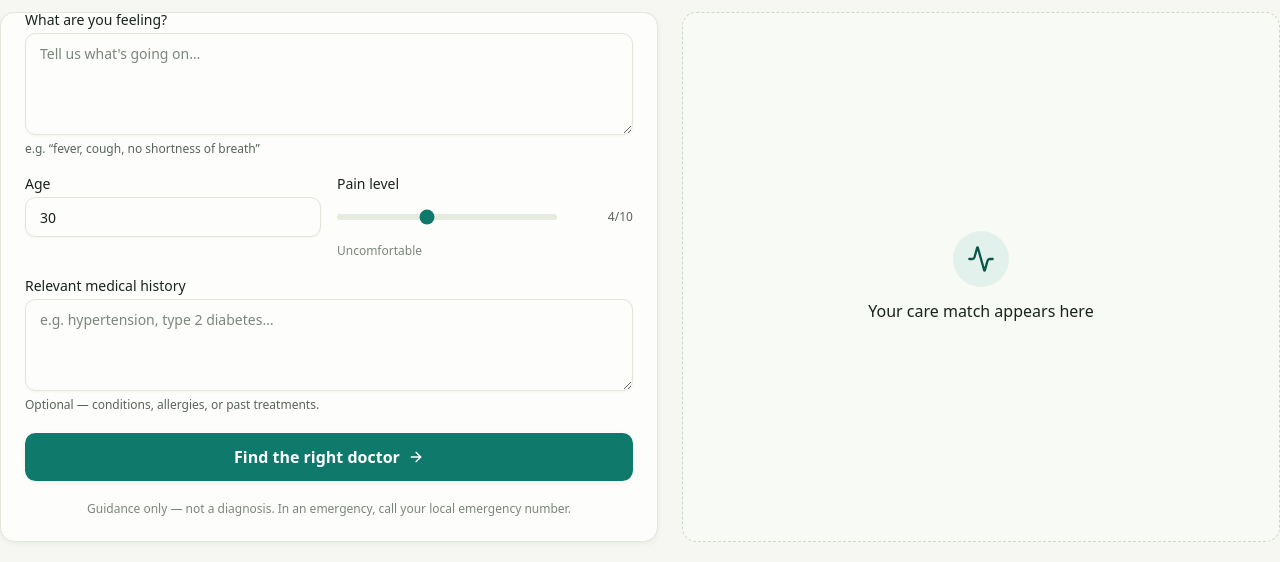
Scenario: SymptomChecker smart check › shows the likely area, illnesses, ranked doctors and the disclaimer
The width and height of the screenshot is (1280, 562).
Click the text box labelled "What are you feeling?" at point(329, 84), box [25,33,633,135]
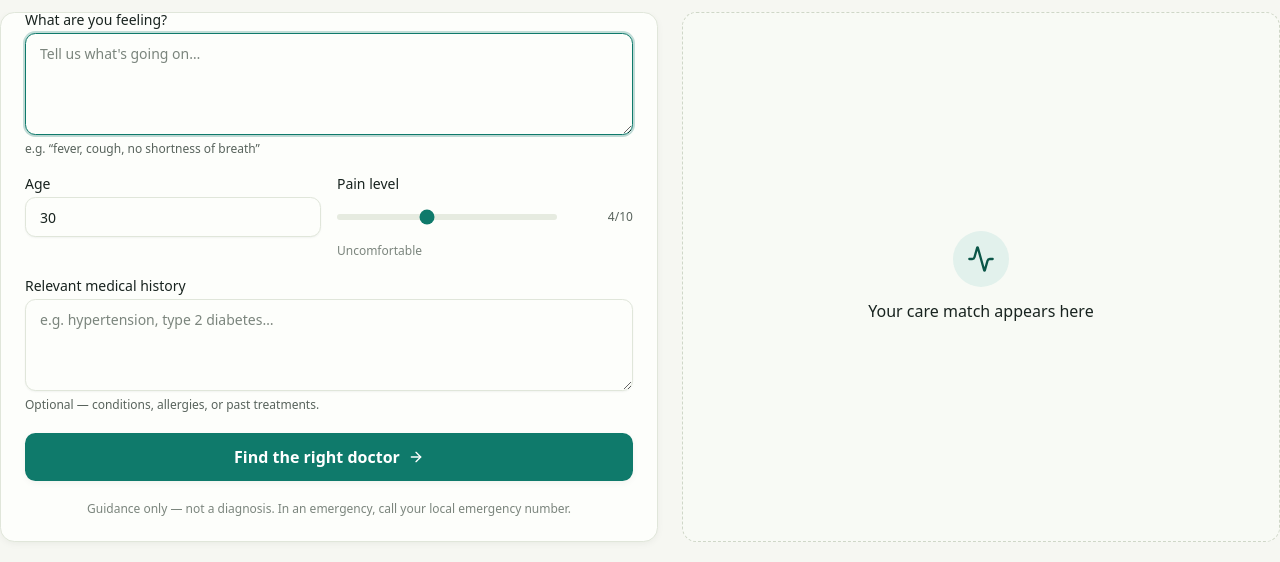
Type keys "heartburn, worse after eating and worse lying down"
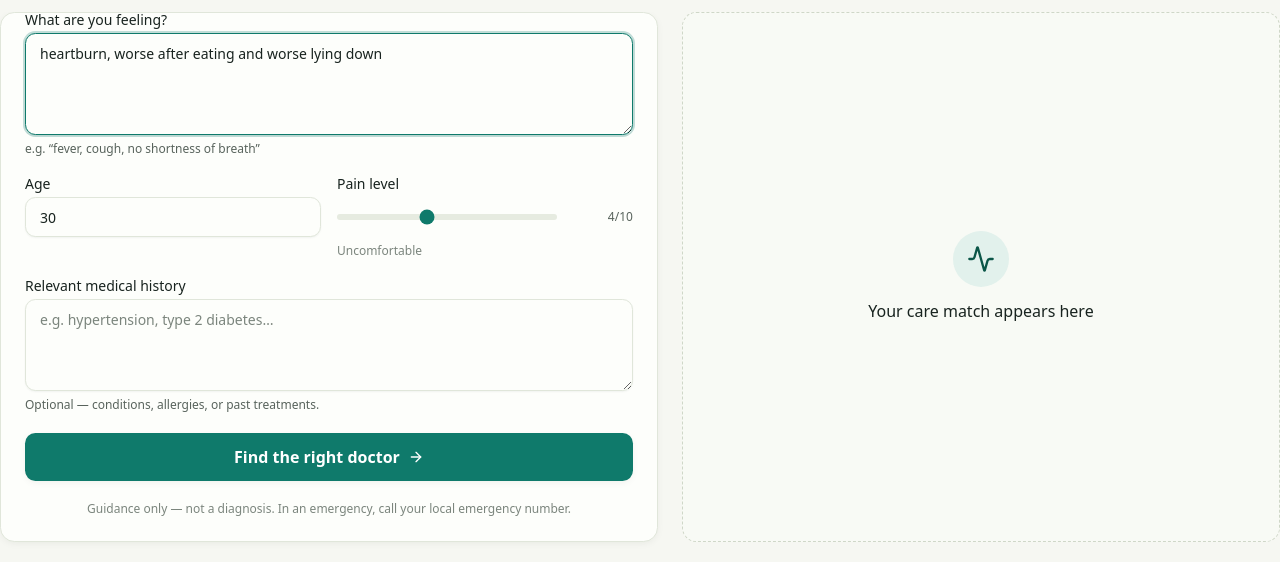
Click the button "Find the right doctor" at point(329, 457), box [25,433,633,481]
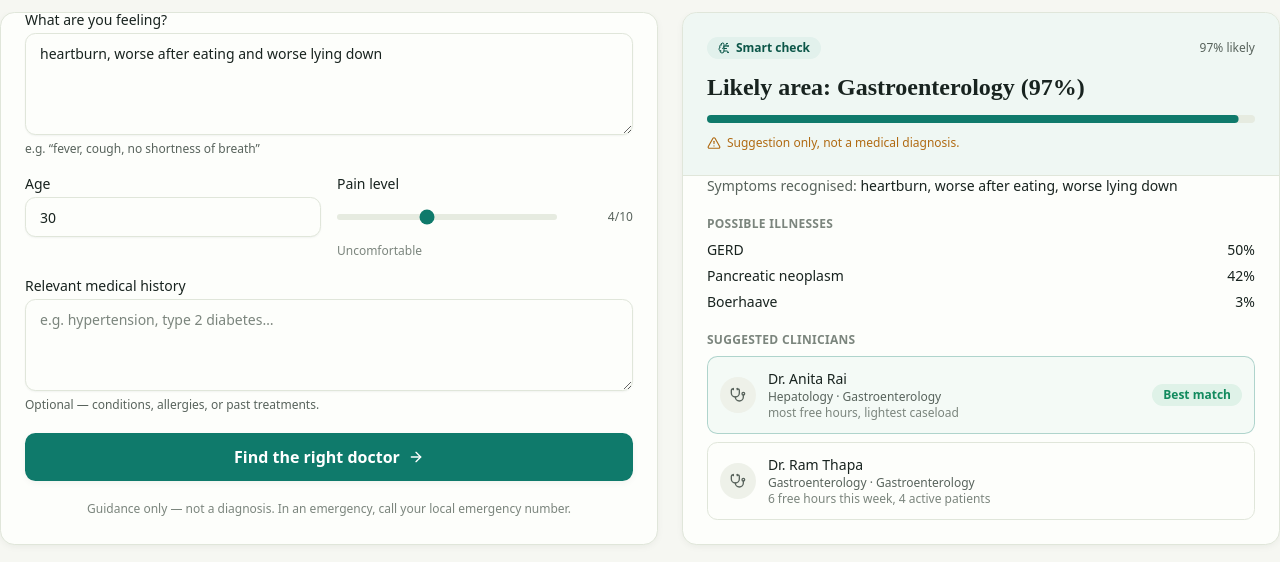
Result: the text "Likely area: Gastroenterology (97%)" is shown at [707,74,1085,100]
Result: the text "Suggestion only, not a medical diagnosis." is shown at [707,134,959,151]
Result: the text "GERD" is shown at [707,240,744,260]
